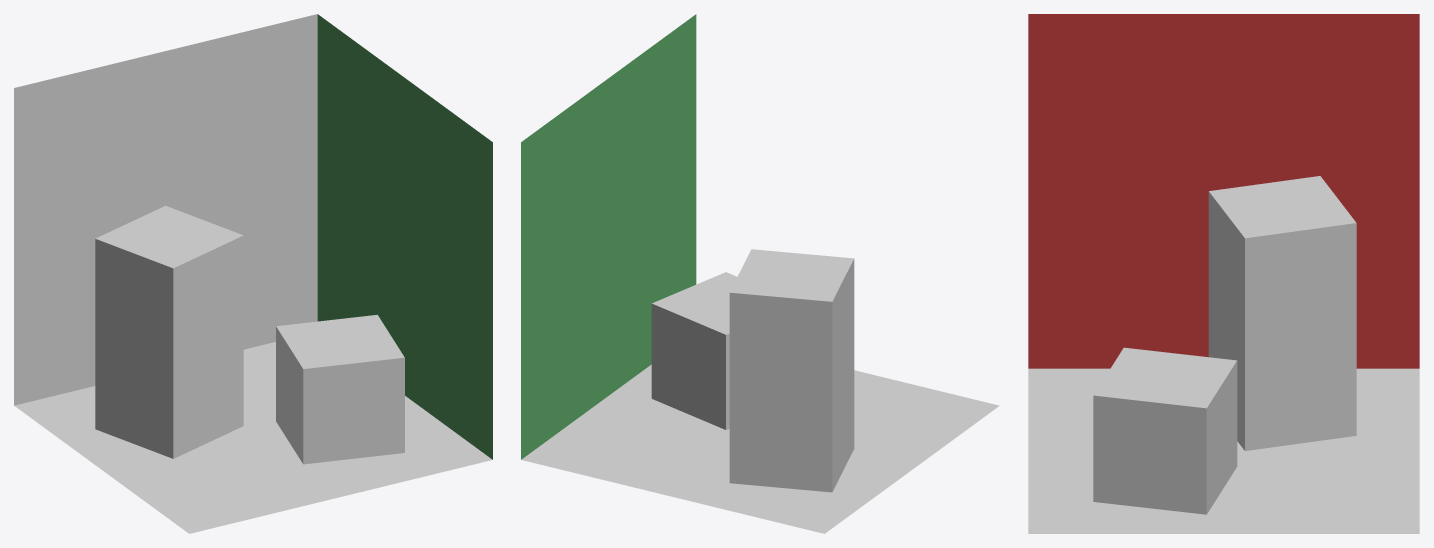
Rendered from Cornell.glb.
The picture shows the model from 3 angles, left to right: view 1: azimuth 30°, elevation 25°; view 2: azimuth 150°, elevation 25°; view 3: azimuth 270°, elevation 25°; orthographic projection. The views are drawn at different scales.
Parts seen in each view (by area): view 1: white, green; view 2: white, green; view 3: red, white.
Boxes of the visible parts, bbox=[...] form: white: bbox=[14, 14, 492, 533]; green: bbox=[317, 14, 492, 459]; white: bbox=[521, 249, 999, 533]; green: bbox=[521, 14, 696, 459]; red: bbox=[1028, 14, 1419, 368]; white: bbox=[1028, 176, 1419, 533].
Bounding box in the file's own units: 2 × 2 × 2.
